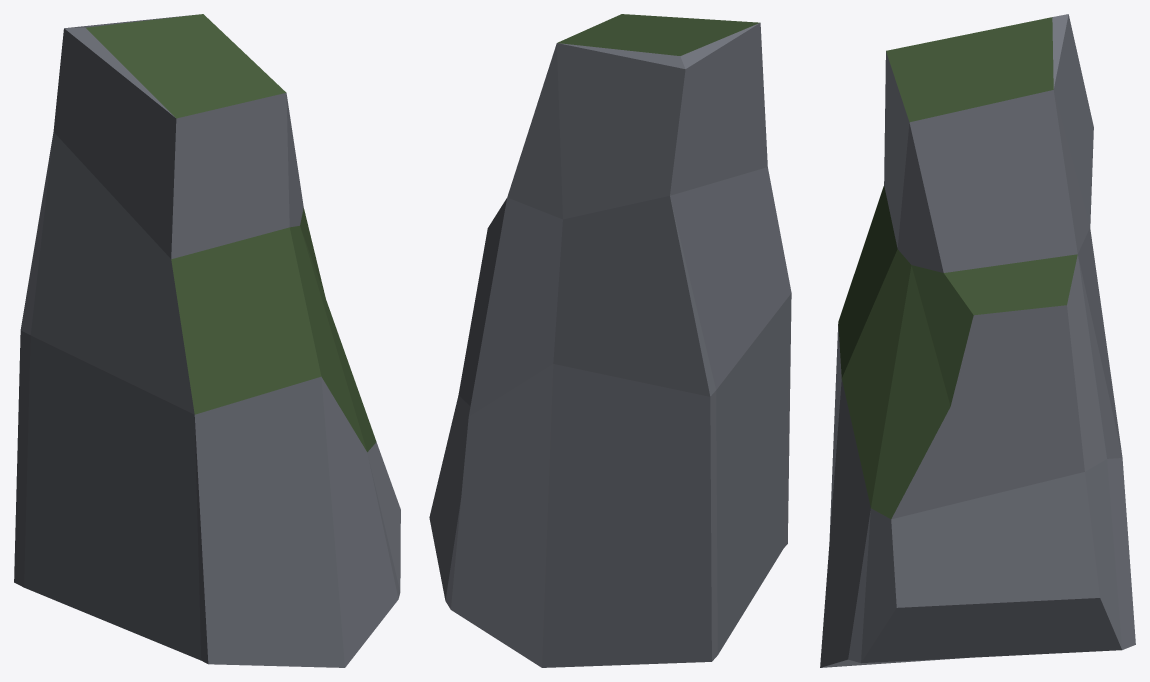
File: rock-moss-1.glb
3 views of the same model, side by side, from view 1: azimuth 30°, elevation 25°; view 2: azimuth 150°, elevation 25°; view 3: azimuth 270°, elevation 25° (orthographic). The views are drawn at different scales.
Parts seen in each view (by area): view 1: Rock_Moss_1; view 2: Rock_Moss_1; view 3: Rock_Moss_1.
Part boxes in pixels (x1,y1,x2,y2): Rock_Moss_1: [14, 14, 400, 667]; Rock_Moss_1: [429, 14, 791, 667]; Rock_Moss_1: [820, 14, 1135, 667].
Bounding box in the file's own units: 0.4853 × 0.95 × 0.4667.
